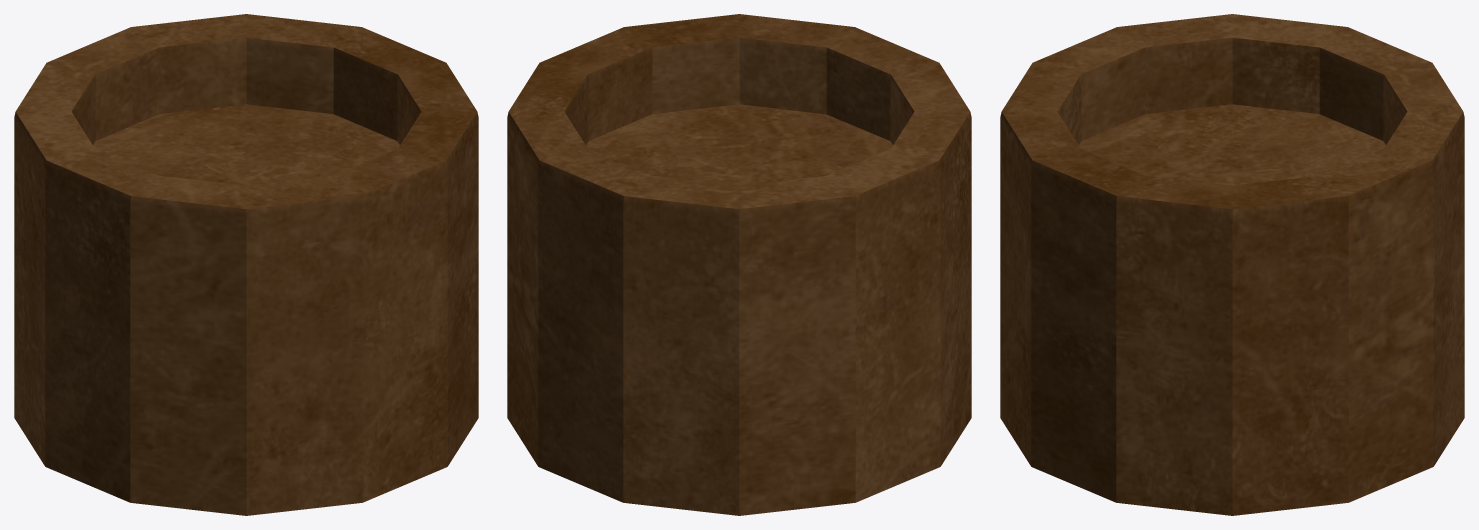
The model's file is FIRE PIT.fbx.
3 views of the same model, side by side, from view 1: azimuth 30°, elevation 25°; view 2: azimuth 150°, elevation 25°; view 3: azimuth 270°, elevation 25° (orthographic).
Parts seen in each view (by area): view 1: FIRE_PIT; view 2: FIRE_PIT; view 3: FIRE_PIT.
Boxes of the visible parts, x1=… form: FIRE_PIT: x1=14, y1=14, x2=478, y2=515; FIRE_PIT: x1=507, y1=14, x2=971, y2=515; FIRE_PIT: x1=1000, y1=14, x2=1464, y2=515.
Bounding box in the file's own units: 12.91 × 9.39 × 12.91.
